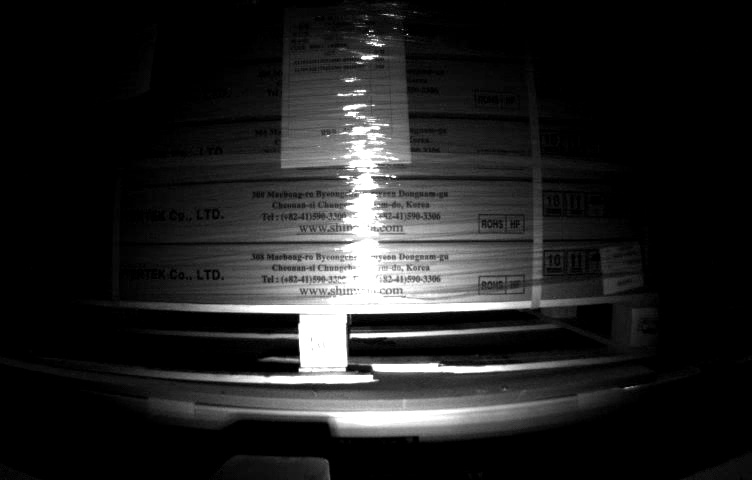True Barcode: (600, 243, 650, 291)
